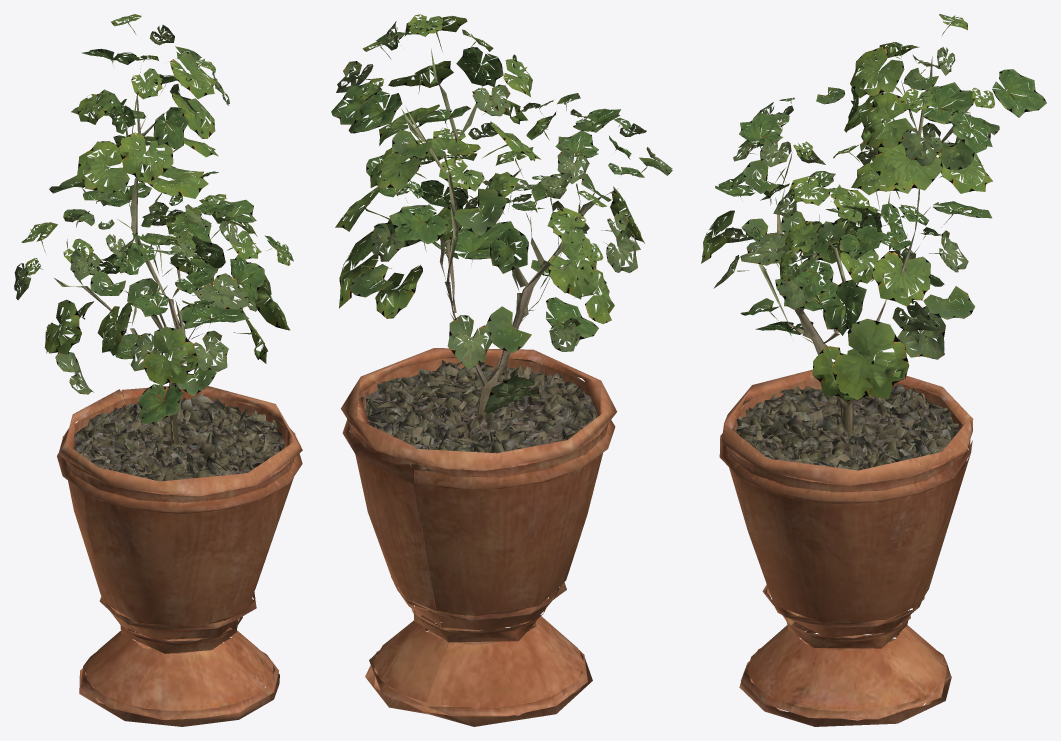
Rendered from ph_potted_plant_01.glb.
3 renders of one model, left to right at view 1: azimuth 30°, elevation 25°; view 2: azimuth 150°, elevation 25°; view 3: azimuth 270°, elevation 25°, orthographic. The views are drawn at different scales.
Parts seen in each view (by area): view 1: potted_plant_01_stem; view 2: potted_plant_01_stem; view 3: potted_plant_01_stem.
Boxes of the visible parts, x1,y1,x2,y2 form: potted_plant_01_stem: (14, 14, 302, 726); potted_plant_01_stem: (331, 14, 672, 726); potted_plant_01_stem: (701, 14, 1046, 726).
Bounding box in the file's own units: 0.5854 × 1.34 × 0.6305.
2 materials, 2 textured.
